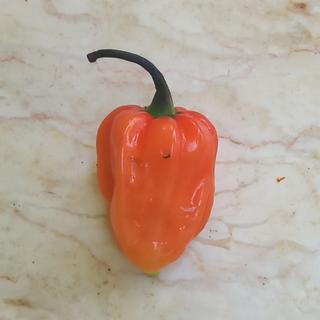Grade-A: (92, 97, 220, 275)
